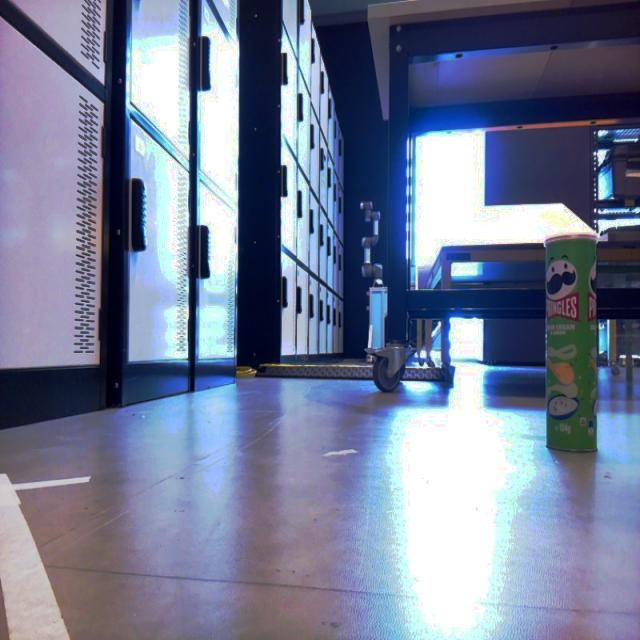greenpringles: (527, 208, 614, 492)
